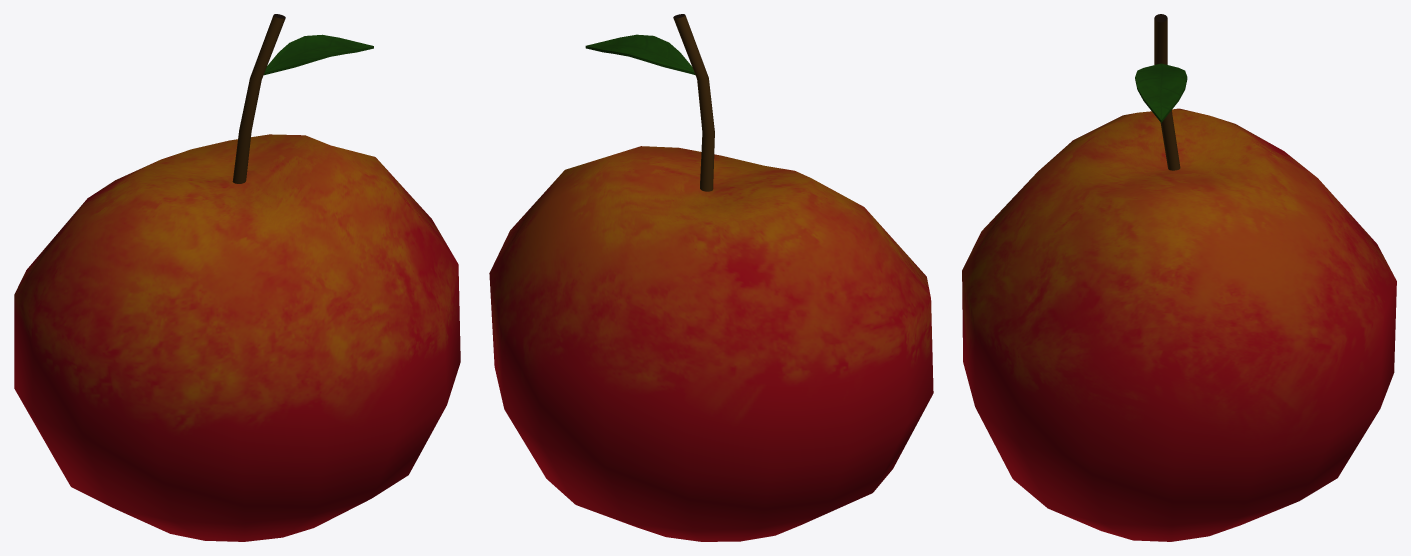
Rendered from apple.glb.
The picture shows the model from 3 angles, left to right: view 1: azimuth 30°, elevation 25°; view 2: azimuth 150°, elevation 25°; view 3: azimuth 270°, elevation 25°; orthographic projection. The views are drawn at different scales.
Visible parts, largest first — view 1: Apple; view 2: Apple; view 3: Apple.
Boxes of the visible parts, box(x1,y1,x2,y2) form: Apple: box(14, 14, 460, 541); Apple: box(489, 14, 933, 541); Apple: box(962, 14, 1396, 541).
Bounding box in the file's own units: 0.6167 × 0.729 × 0.5599.
1 material, 1 textured.
